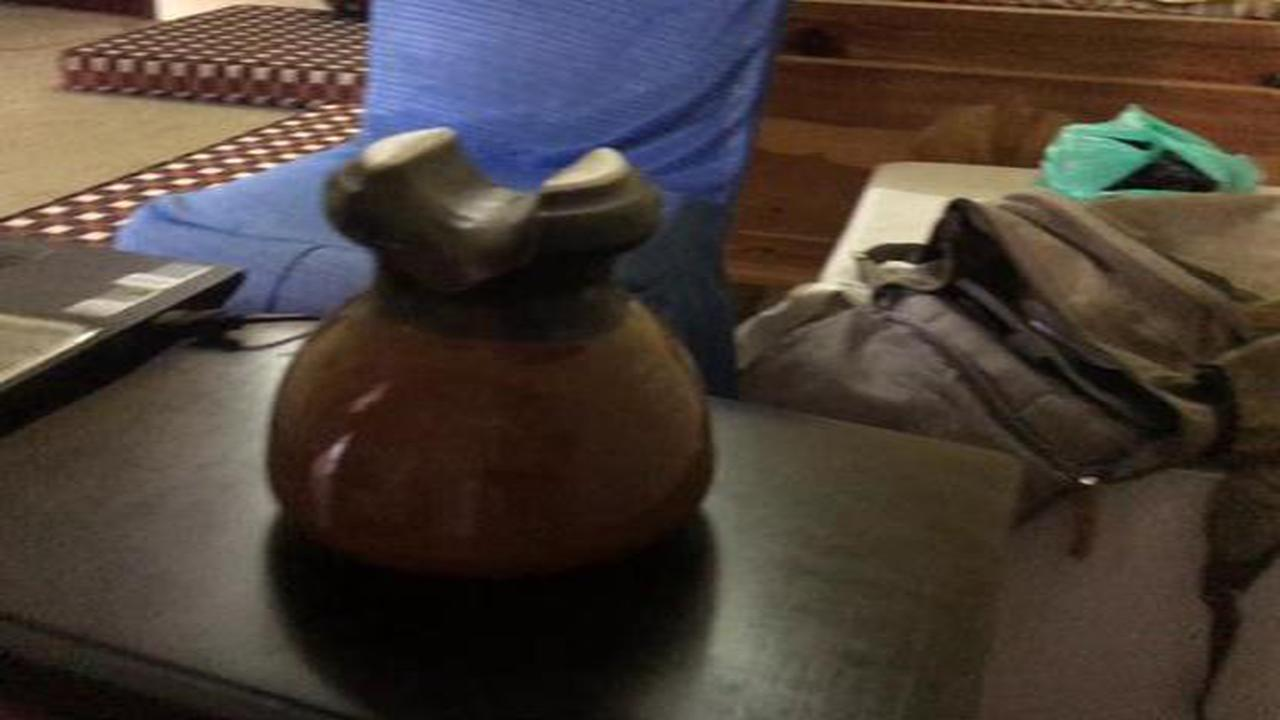insulator_pin: (268, 123, 733, 610)
